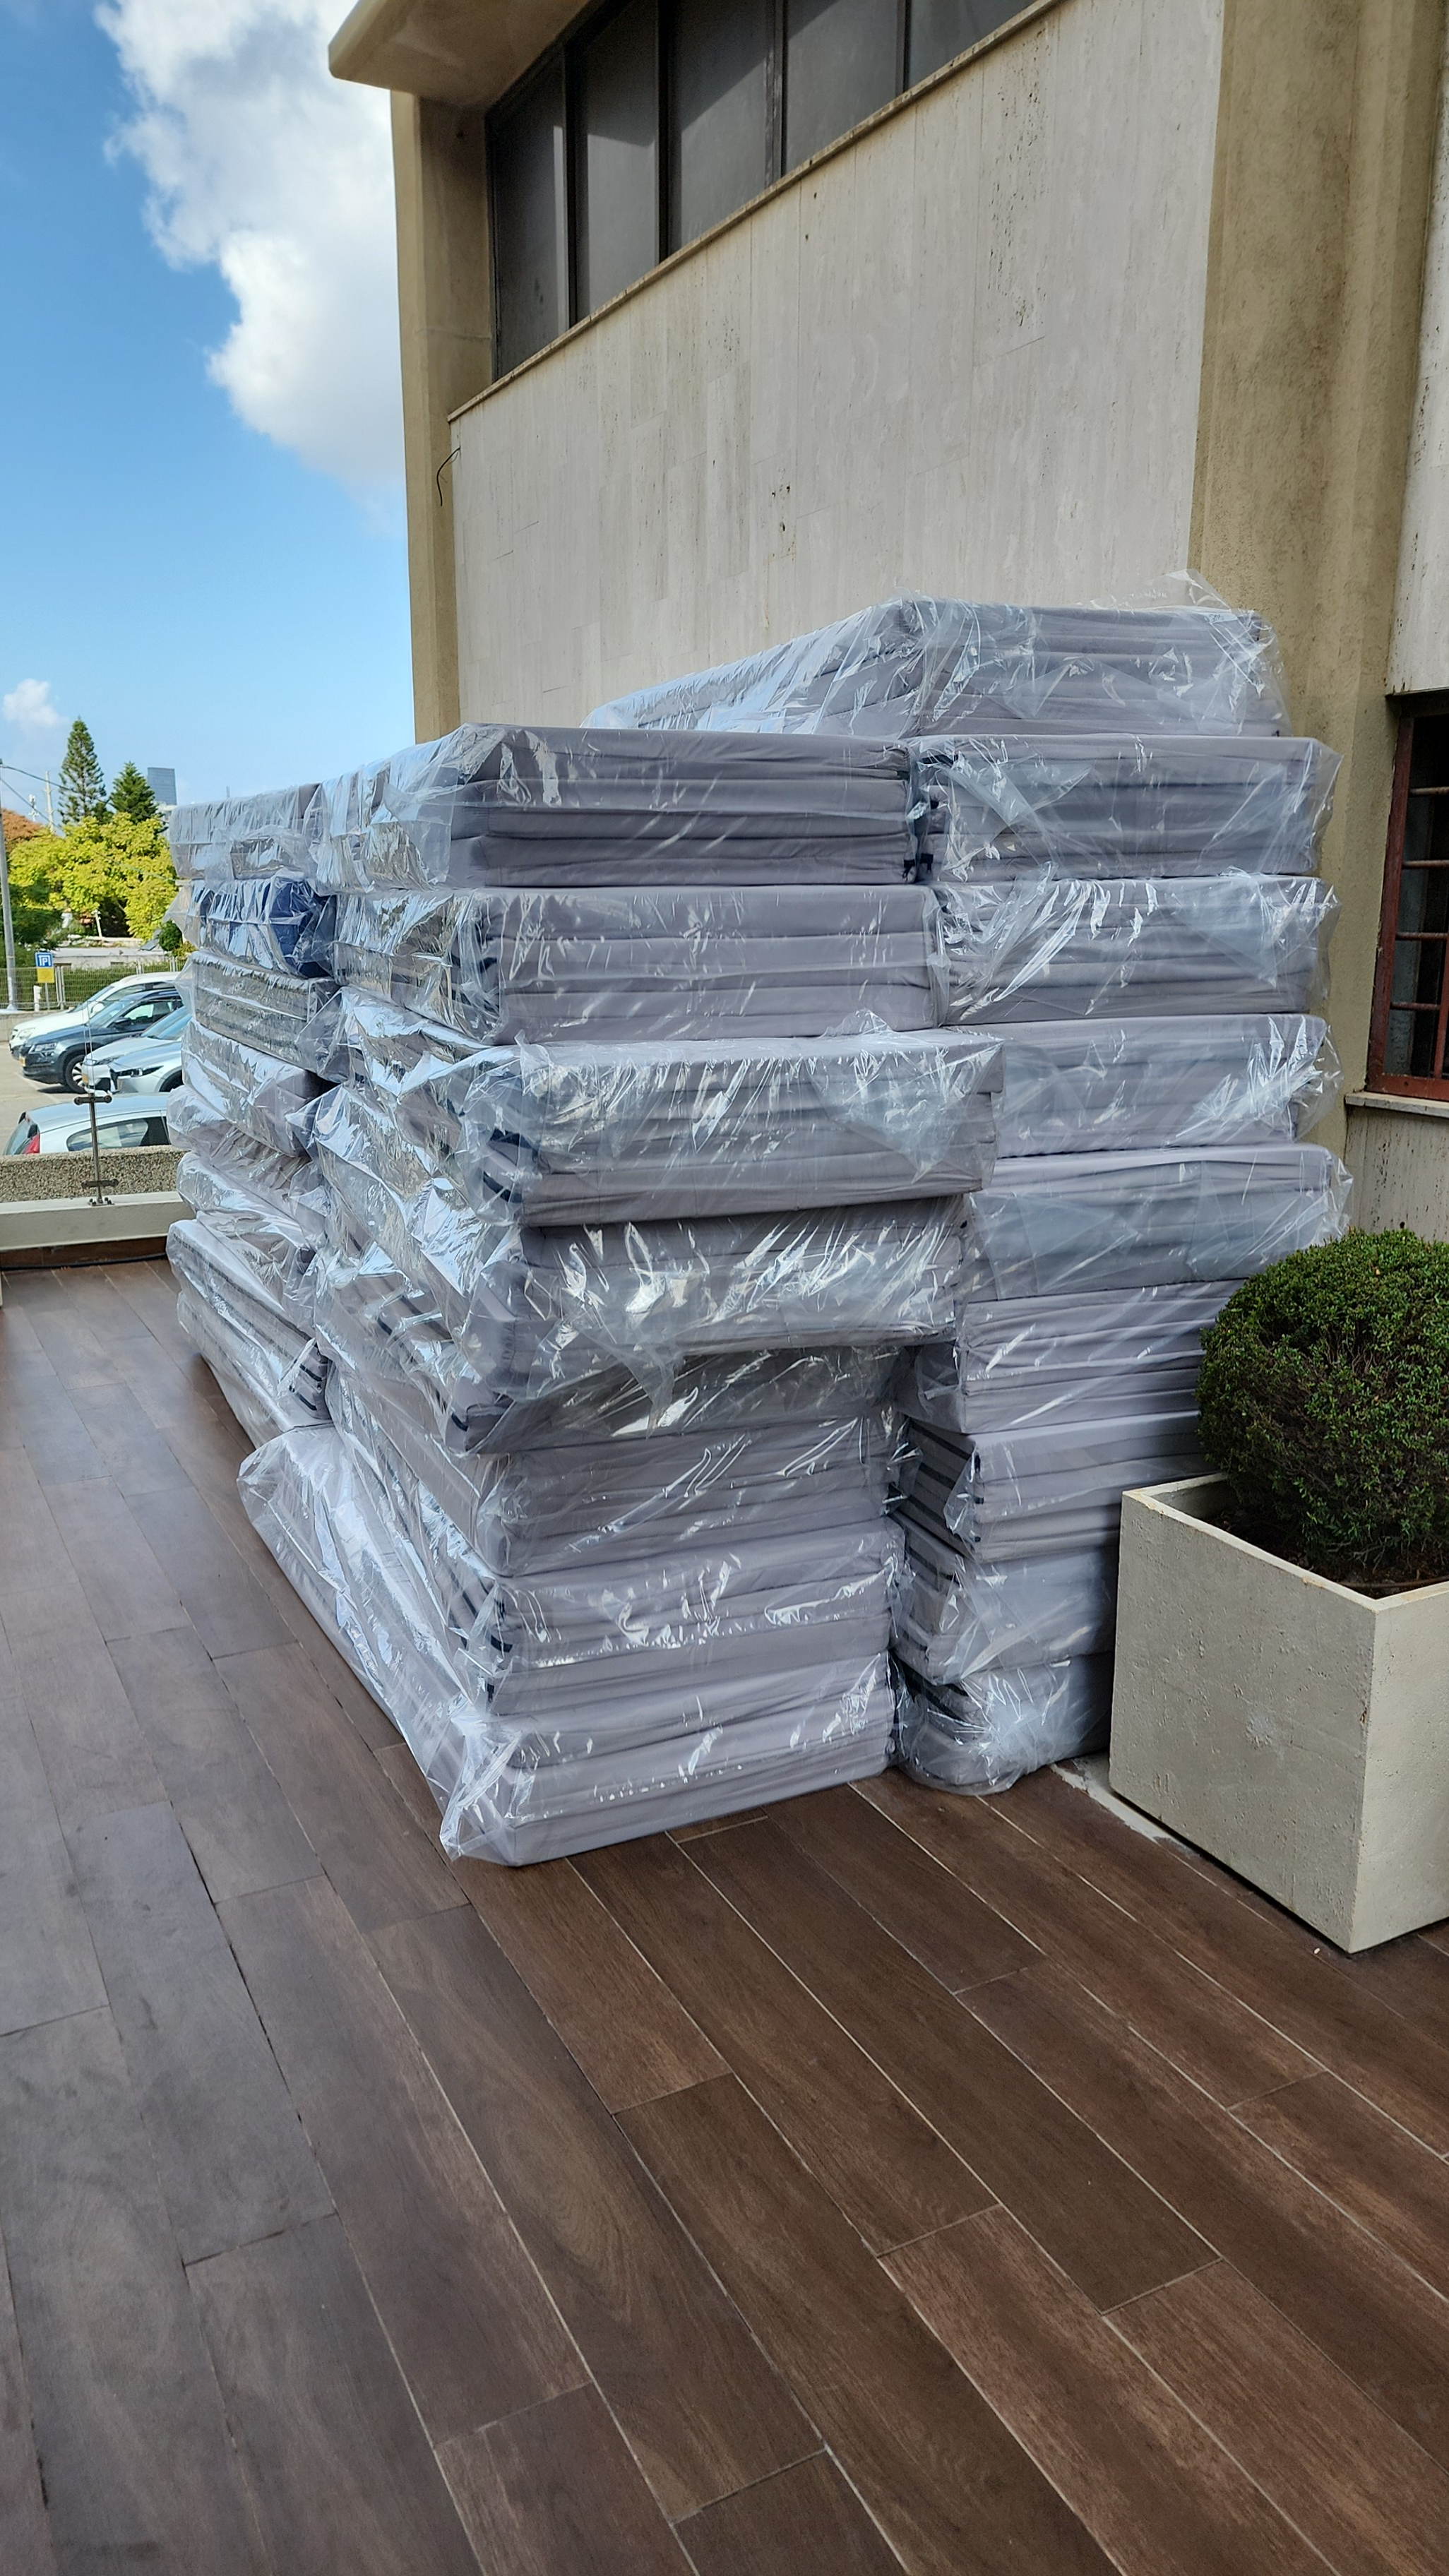other: (120, 600, 1384, 1849)
